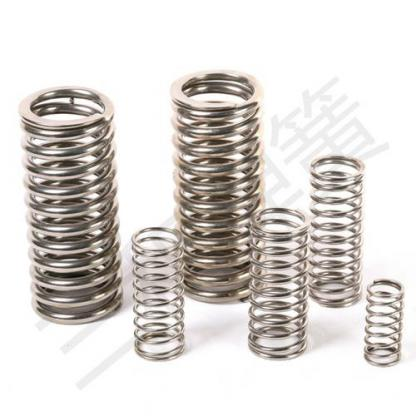FOD: (16, 72, 123, 328), (168, 66, 268, 307), (245, 202, 312, 361), (307, 152, 364, 309), (131, 223, 187, 366), (361, 277, 405, 369)
